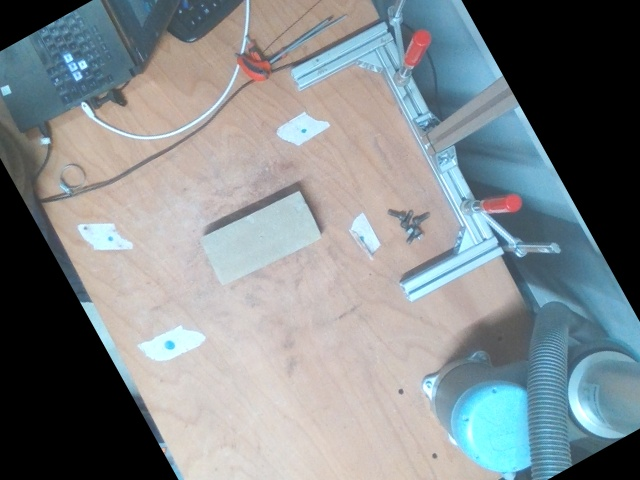brick: (202, 193, 319, 281)
